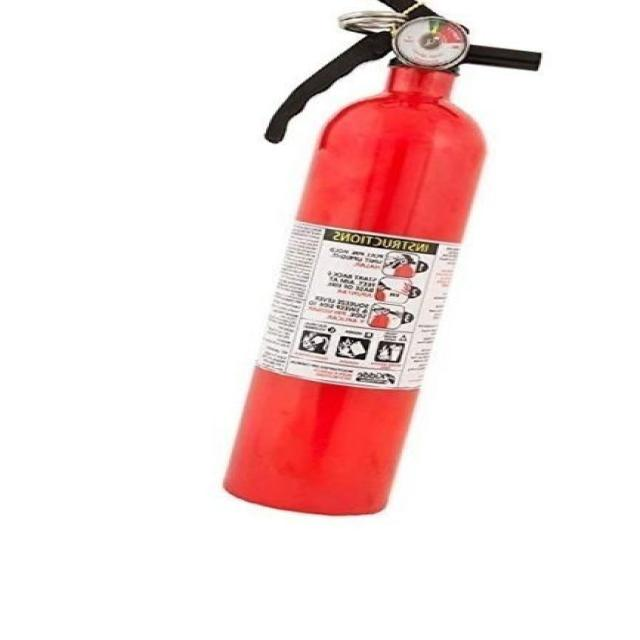fire_extinguisher: (210, 0, 553, 519)
